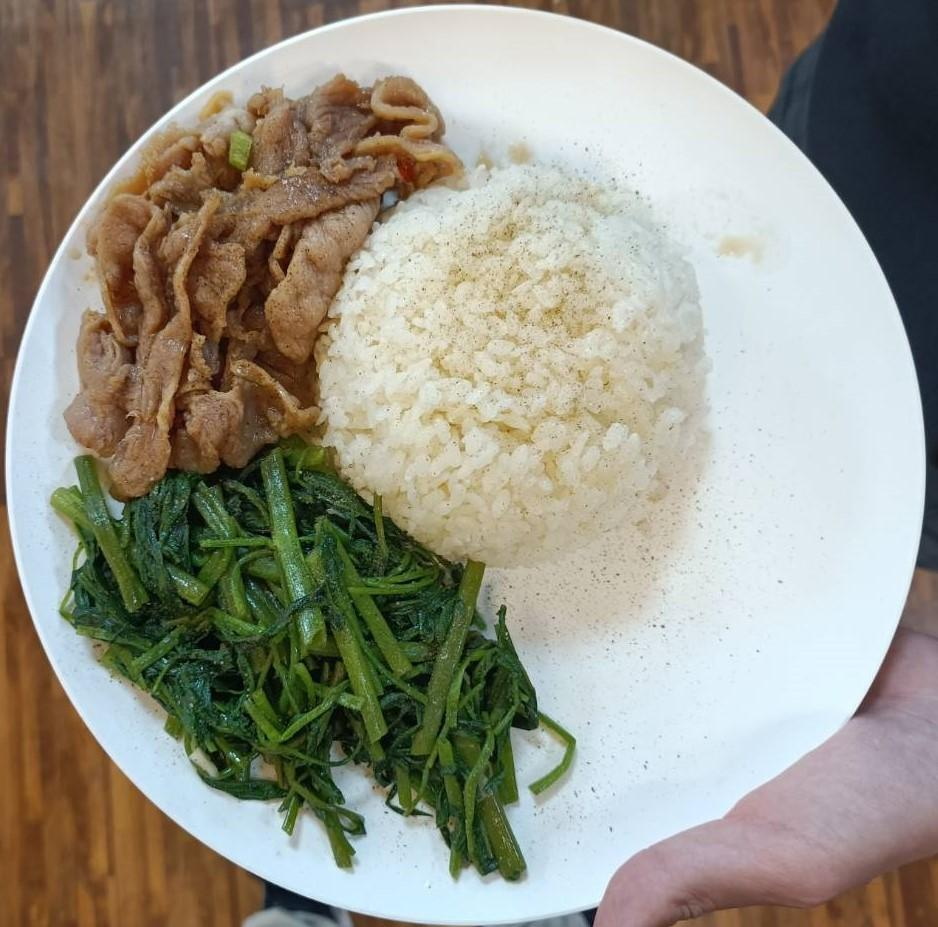big fried chicken leg: (2, 8, 938, 923)
big herbal chicken leg: (317, 162, 700, 573)
braised fish fillet: (54, 460, 561, 877)
braised pork: (58, 64, 460, 487)
